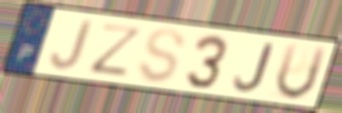3: (184, 33, 230, 90)
J: (49, 19, 95, 72), (232, 42, 275, 94)
S: (136, 26, 188, 85)
U: (273, 42, 330, 103)
Z: (88, 22, 146, 78)
